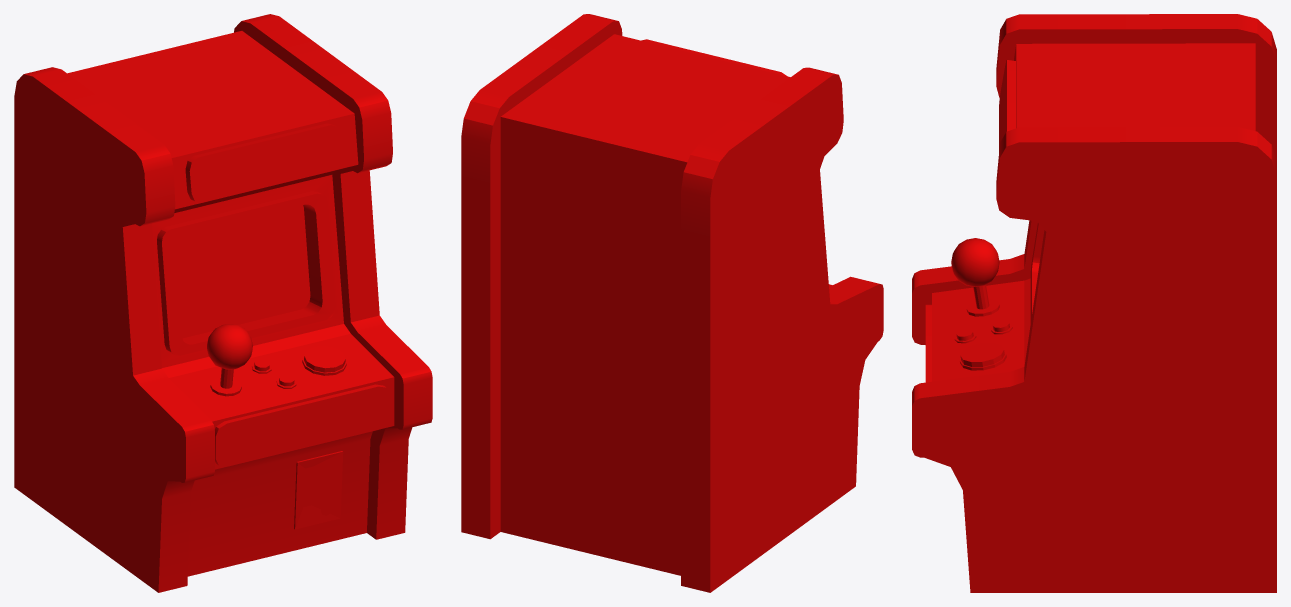
Rendered from Asset_ArcadeMachine.glb.
The picture shows the model from 3 angles, left to right: view 1: azimuth 30°, elevation 25°; view 2: azimuth 150°, elevation 25°; view 3: azimuth 270°, elevation 25°; orthographic projection. The views are drawn at different scales.
Parts seen in each view (by area): view 1: Asset_ArcadeMachine; view 2: Asset_ArcadeMachine; view 3: Asset_ArcadeMachine.
Part boxes in pixels (left/top/right/bottom): Asset_ArcadeMachine: left=14, top=14, right=432, bottom=592; Asset_ArcadeMachine: left=461, top=14, right=883, bottom=592; Asset_ArcadeMachine: left=912, top=14, right=1276, bottom=592.
Size of the model in its own units: 0.7424 by 1.22 by 0.8946.
